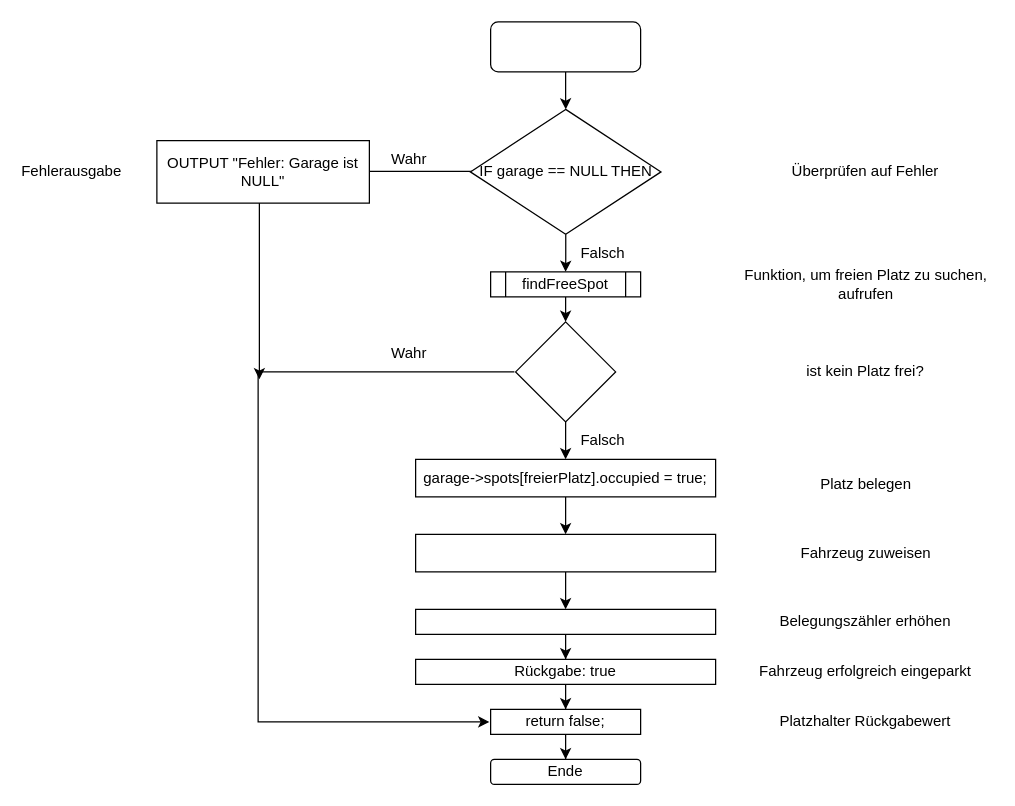
This 1015x806 diagram has some shape labels left out. Here are the shapes that lost their labels. From the top down, the centre of each, then its label:
pixel 565 46: Start parkingVehicle
pixel 565 371: free index == -1?
pixel 565 552: garage->spots[freierPlatz].vehicle = &v;
pixel 565 621: - garage->occupiedCount++;
